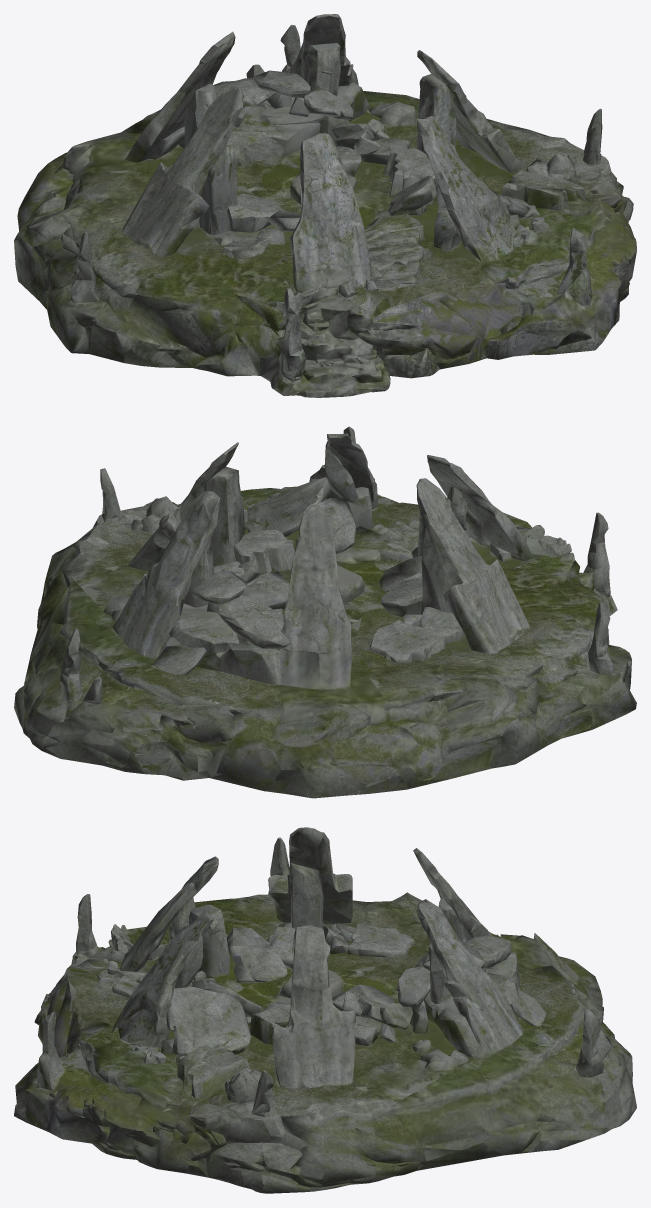
Rendered from seeingstone.lod1.glb.
The picture shows the model from 3 angles, top to bottom: view 1: azimuth 30°, elevation 25°; view 2: azimuth 150°, elevation 25°; view 3: azimuth 270°, elevation 25°; orthographic projection. The views are drawn at different scales.
Parts seen in each view (by area): view 1: seeingstone-centred; view 2: seeingstone-centred; view 3: seeingstone-centred.
Boxes of the visible parts, box(x1,y1,x2,y2) form: seeingstone-centred: box(14, 14, 636, 397); seeingstone-centred: box(14, 426, 636, 798); seeingstone-centred: box(14, 827, 636, 1193).
Bounding box in the file's own units: 33.87 × 11.52 × 33.64.
Materials: 1 (1 with a texture image).
